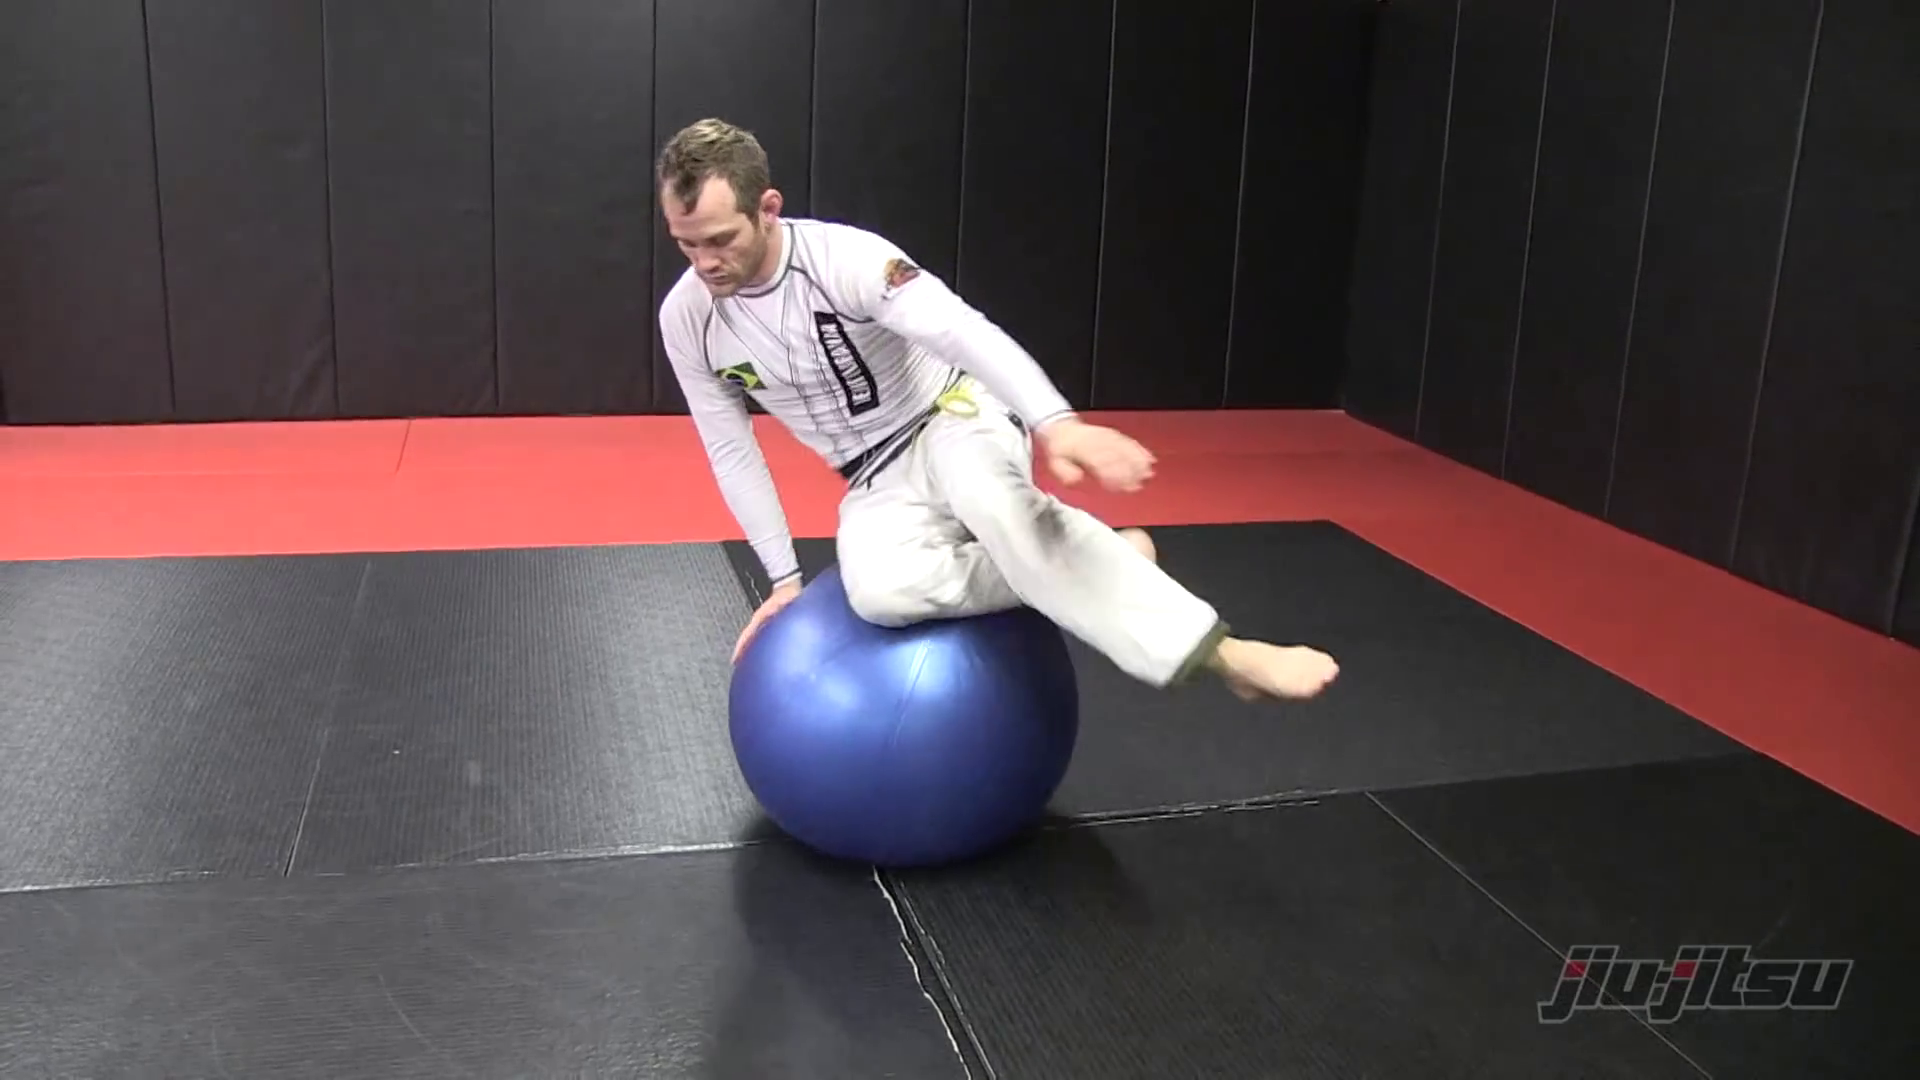yogaball: (711, 560, 1095, 897)
